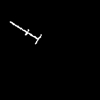double_crochet: (10, 22, 40, 43)
